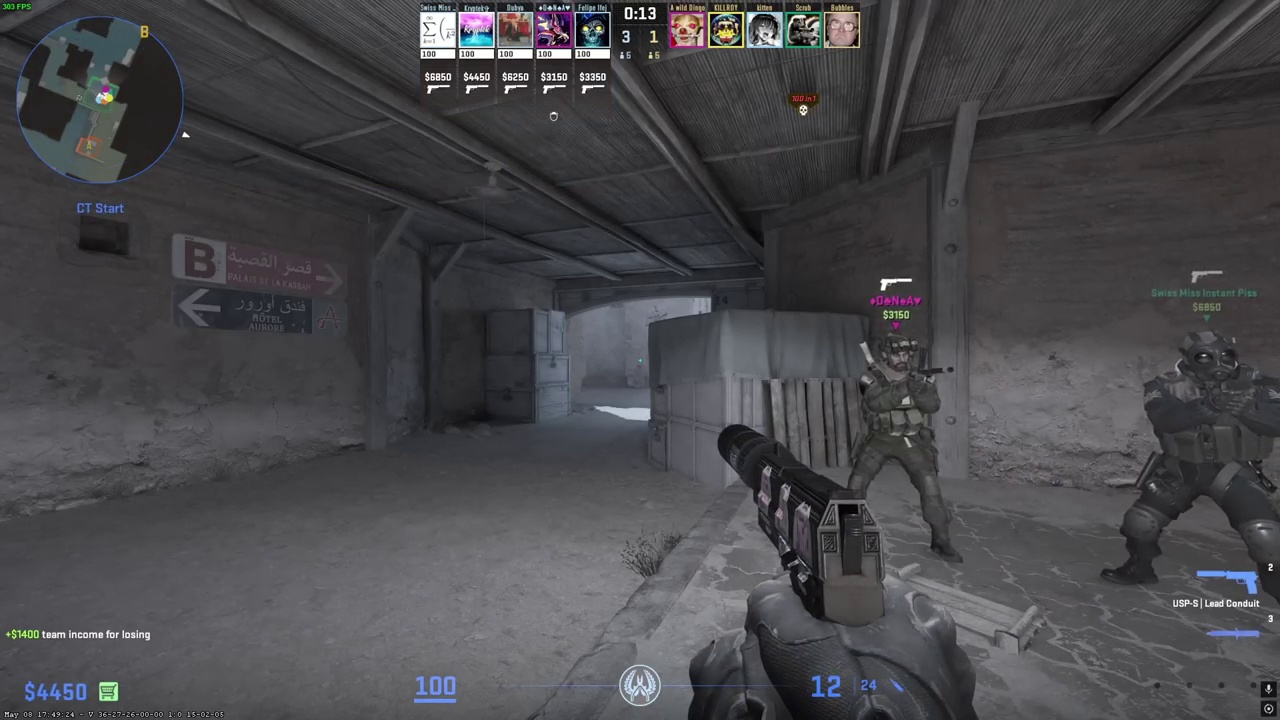CT: (1123, 329, 1280, 610), (844, 333, 964, 565)
